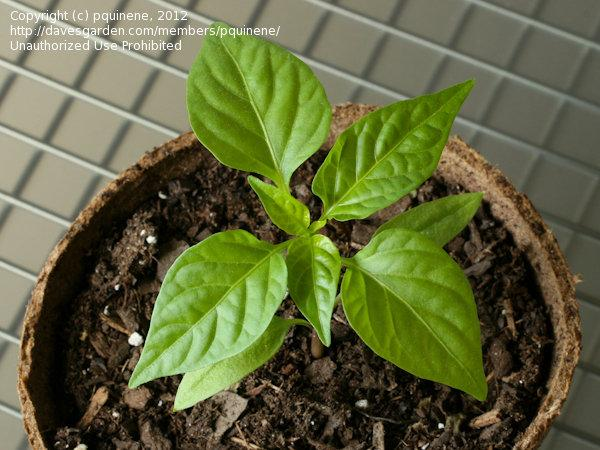Bell_pepper leaf spot: (337, 228, 491, 406), (121, 229, 290, 387), (308, 80, 477, 224), (185, 17, 333, 181), (286, 234, 340, 351), (243, 174, 314, 238)
